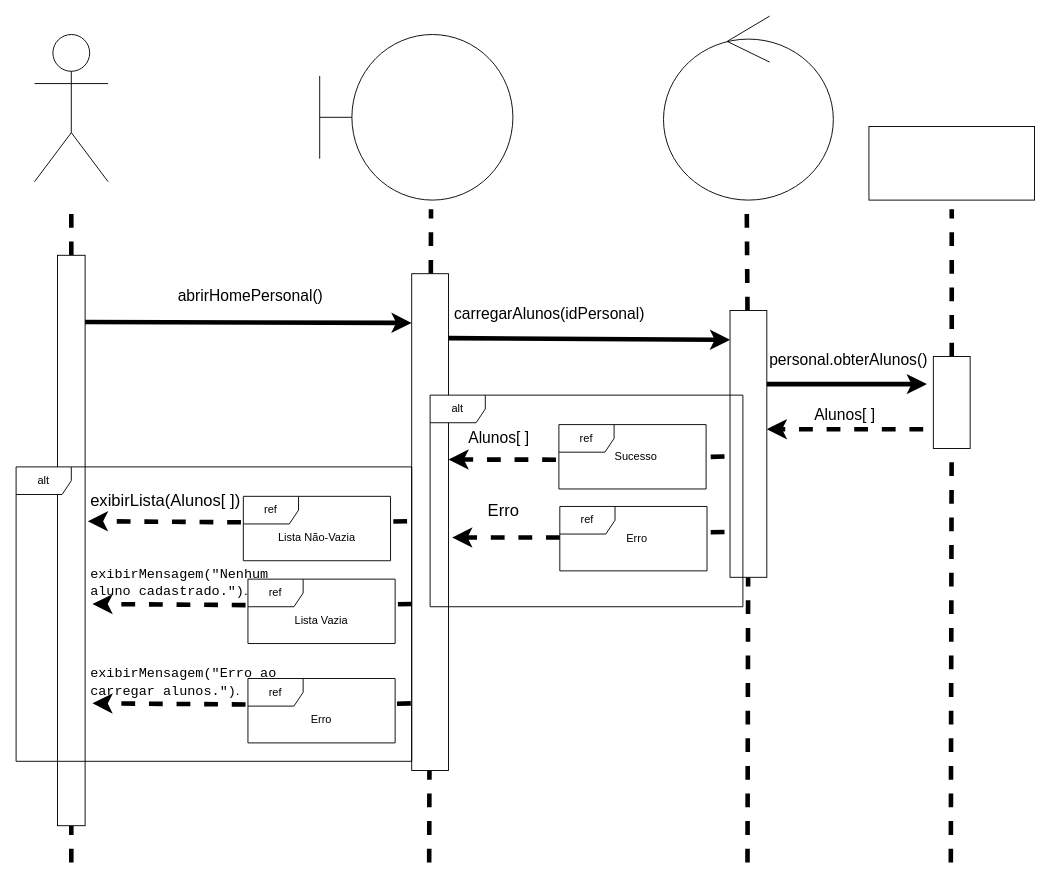
The diagram is 1051 pixels wide and 881 high, and some of its shapes have lost their labels. Each missing label, with the box of its shape:
DashboardPersonalControl: (663, 15, 833, 200)
HomePersonalView: (319, 34, 513, 200)
Personal: (34, 34, 108, 182)
personal:Personal: (868, 126, 1035, 200)
